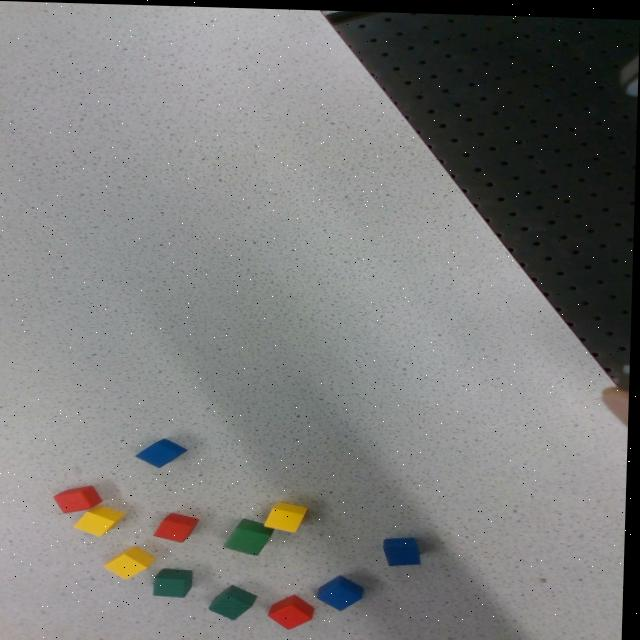blue_cube: (319, 564, 372, 615), (138, 426, 191, 475), (388, 534, 425, 563)
green_cube: (227, 510, 278, 562), (211, 578, 261, 624), (156, 566, 197, 596)
red_cube: (270, 584, 322, 634), (56, 481, 108, 514), (157, 507, 204, 543)
yellow_cube: (76, 492, 129, 545), (106, 537, 162, 585), (268, 497, 312, 532)
